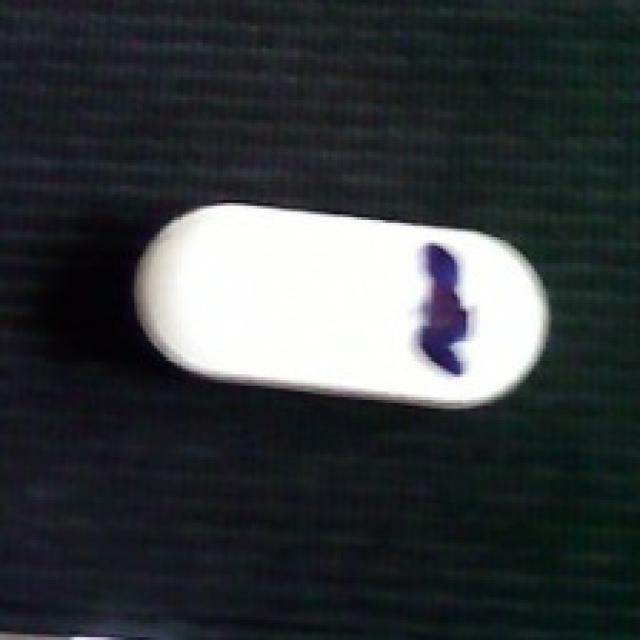defected: (126, 203, 554, 408)
